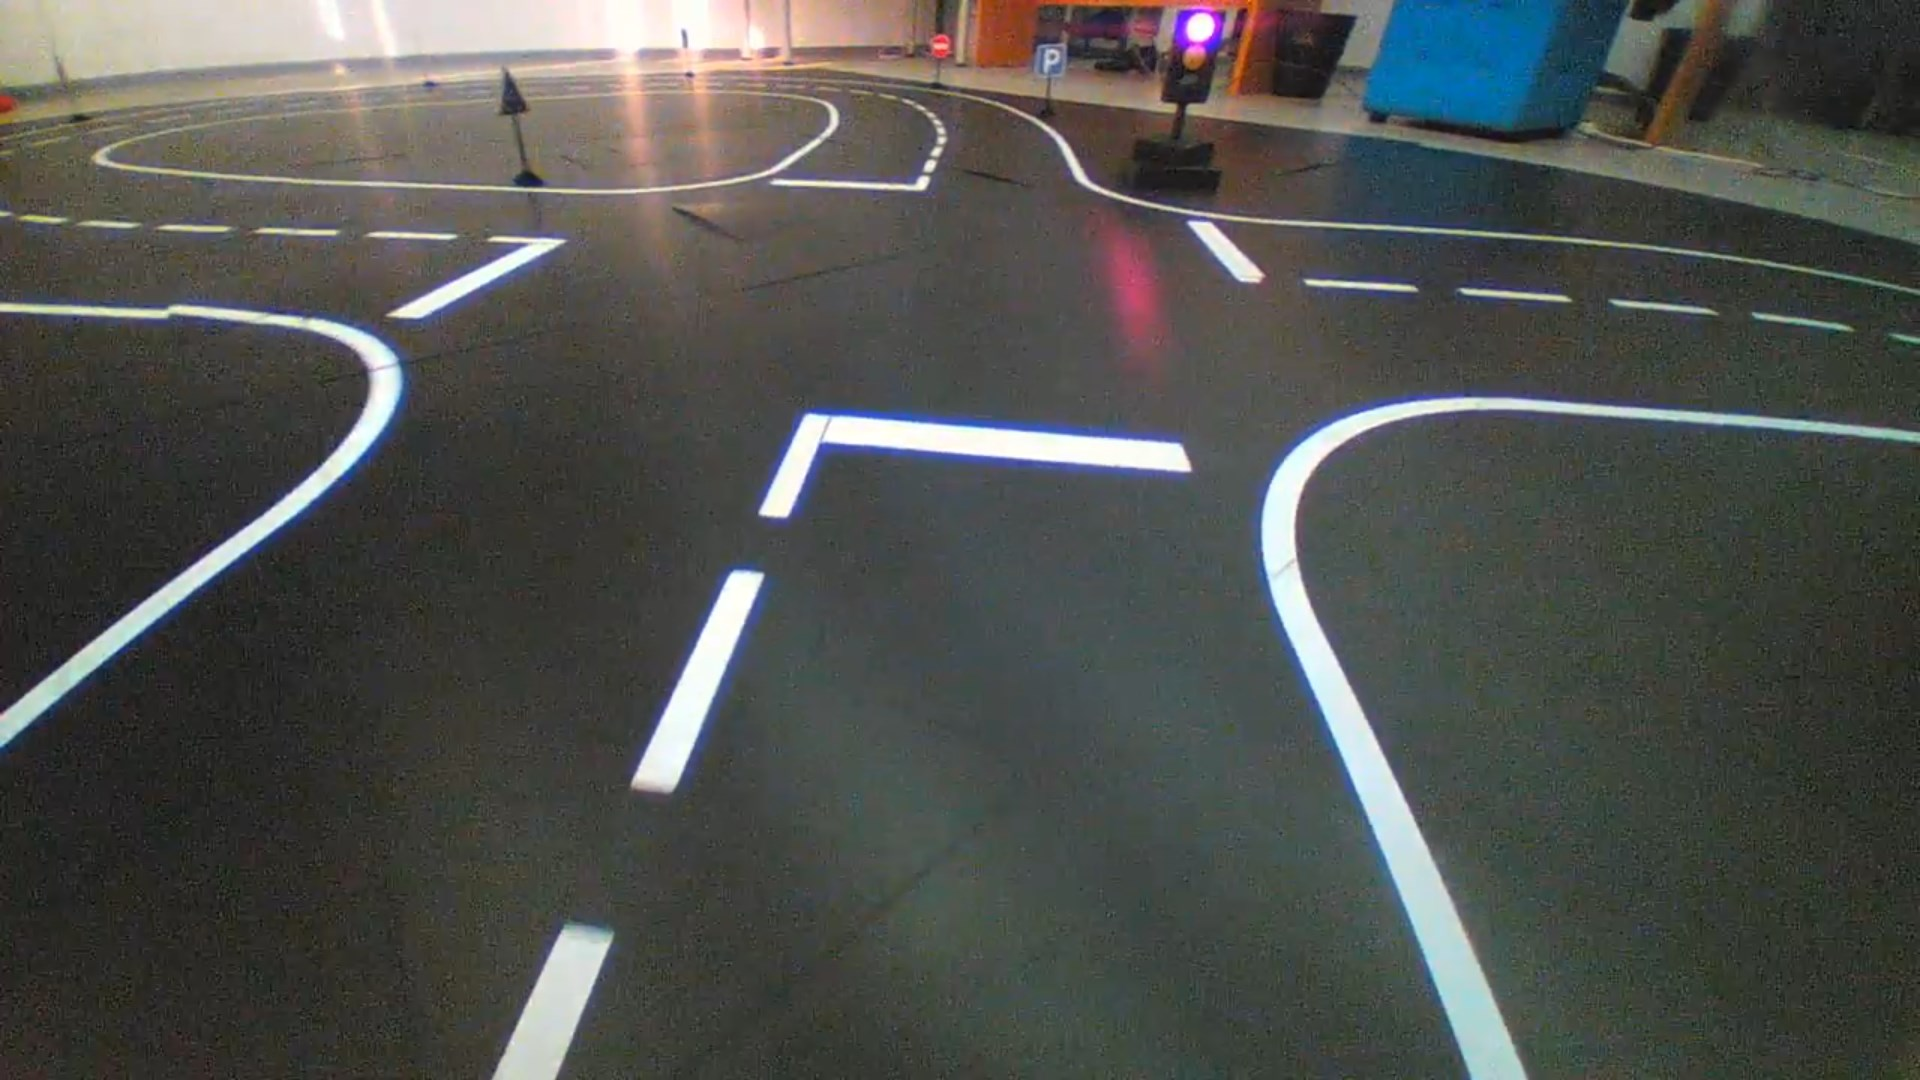trafficlight: (1160, 8, 1226, 104)
